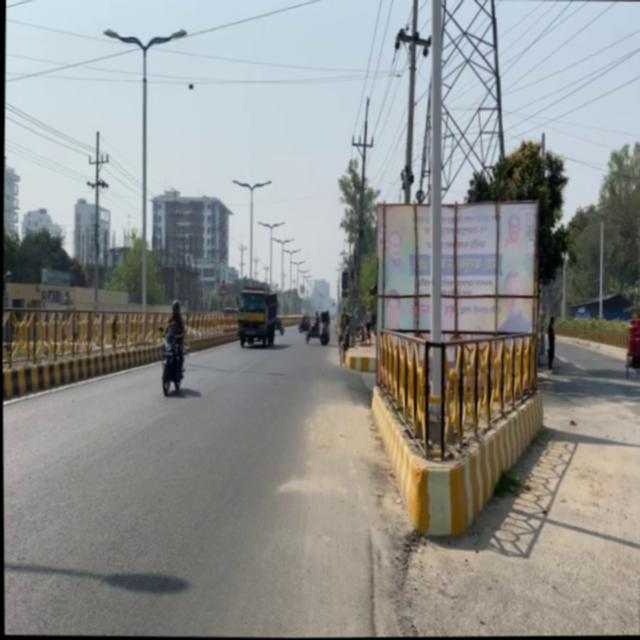Construction-barrier: (2, 334, 164, 403), (344, 353, 374, 372)
Fallen-tree: (158, 329, 186, 397), (304, 320, 319, 344), (317, 321, 329, 345), (274, 315, 283, 334)
Garbage-bin: (160, 299, 185, 380)
Light-pole: (421, 0, 451, 460)
Pole: (330, 323, 527, 542)
Traffic-cone: (234, 286, 284, 348)
